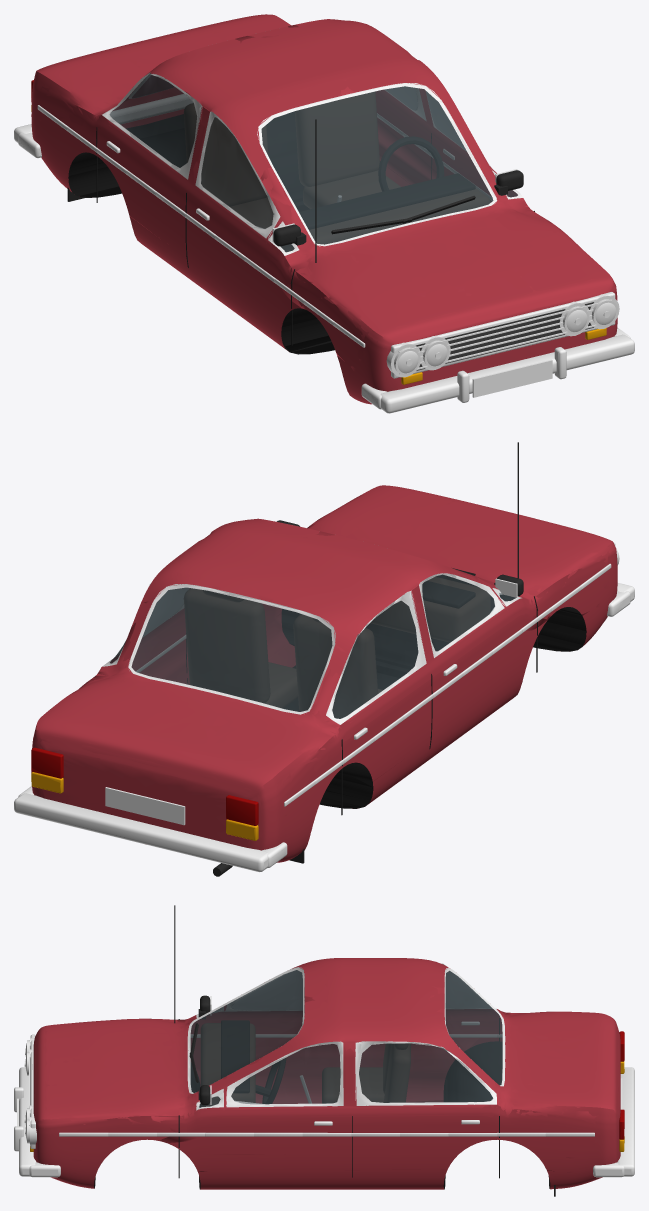
Rendered from vaz2101.glb.
The picture shows the model from 3 angles, top to bottom: view 1: azimuth 30°, elevation 25°; view 2: azimuth 150°, elevation 25°; view 3: azimuth 270°, elevation 25°; orthographic projection. The views are drawn at different scales.
Parts seen in each view (by area): view 1: LOD_hi, LOD0; view 2: LOD_hi, LOD0; view 3: LOD_hi, LOD0.
Part boxes in pixels (bbox=[...]): LOD_hi: bbox=[14, 14, 634, 413]; LOD0: bbox=[14, 16, 619, 409]; LOD_hi: bbox=[14, 442, 634, 876]; LOD0: bbox=[32, 445, 634, 875]; LOD_hi: bbox=[14, 905, 634, 1196]; LOD0: bbox=[18, 907, 631, 1188].
Size of what is drawn, in the model's own units: 1.66 by 1.58 by 4.31.
